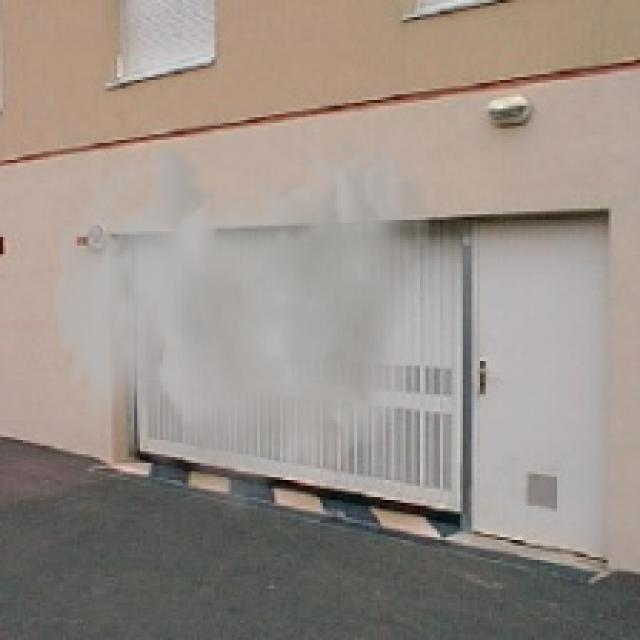Smoke: (54, 134, 432, 526)
